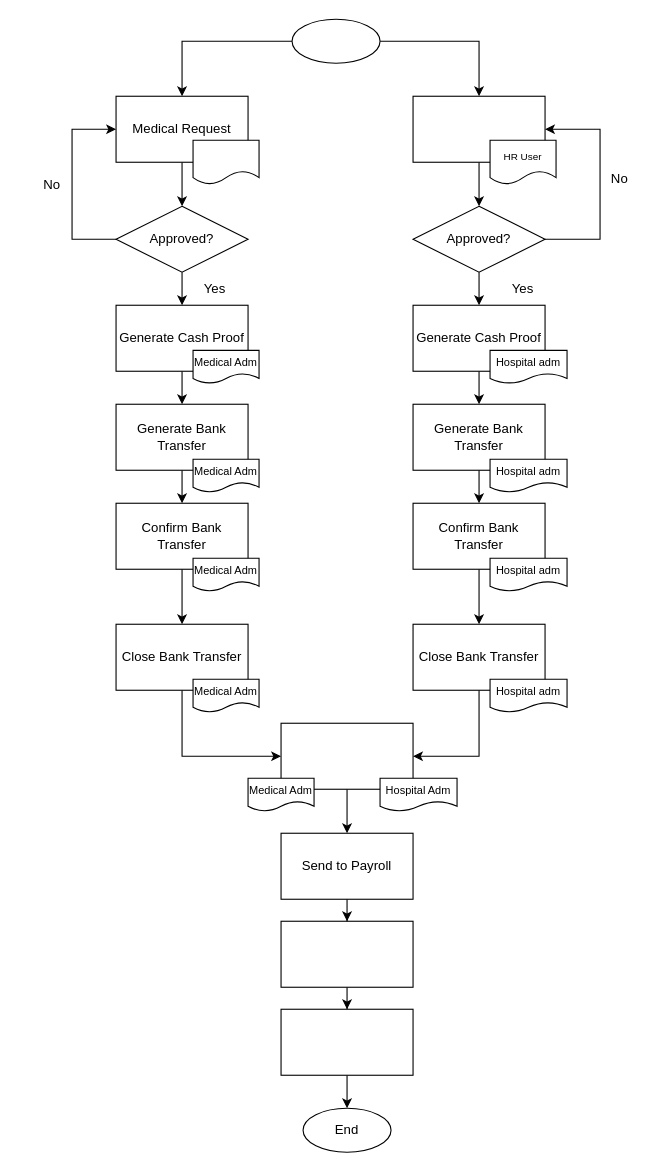
Image size: 671x1172. Some labels were removed from this diagram. Each missing label, with the box of its shape:
Contract Temp Attribute Payroll: (280, 920, 413, 987)
Employee: (192, 139, 259, 184)
Hospital & Medical Payroll Report: (280, 722, 413, 789)
Hospital Request: (412, 95, 545, 162)
Payroll Process: (280, 1008, 413, 1075)
Start: (291, 18, 380, 63)
